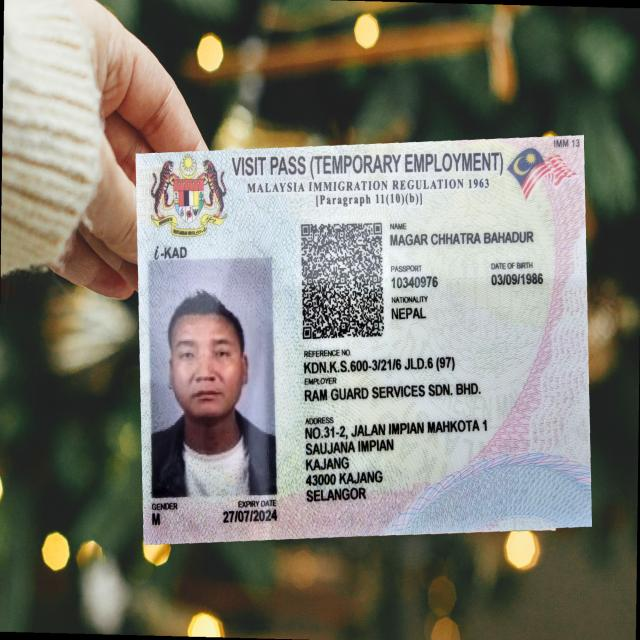ikad-temp: (134, 135, 592, 544)
